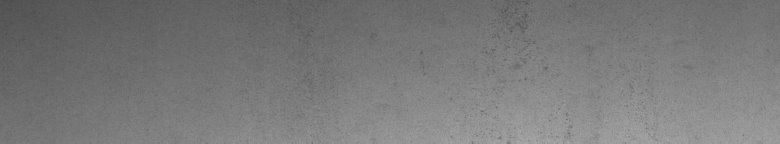ib: (472, 14, 568, 116)
